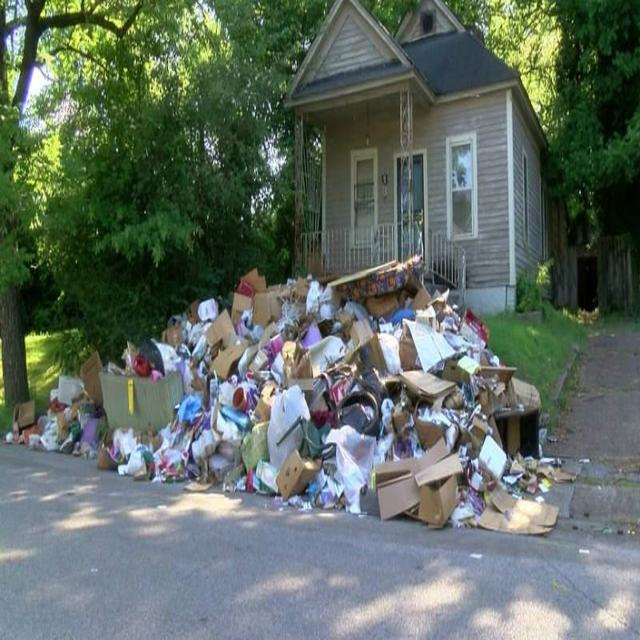House: (283, 1, 640, 326)
